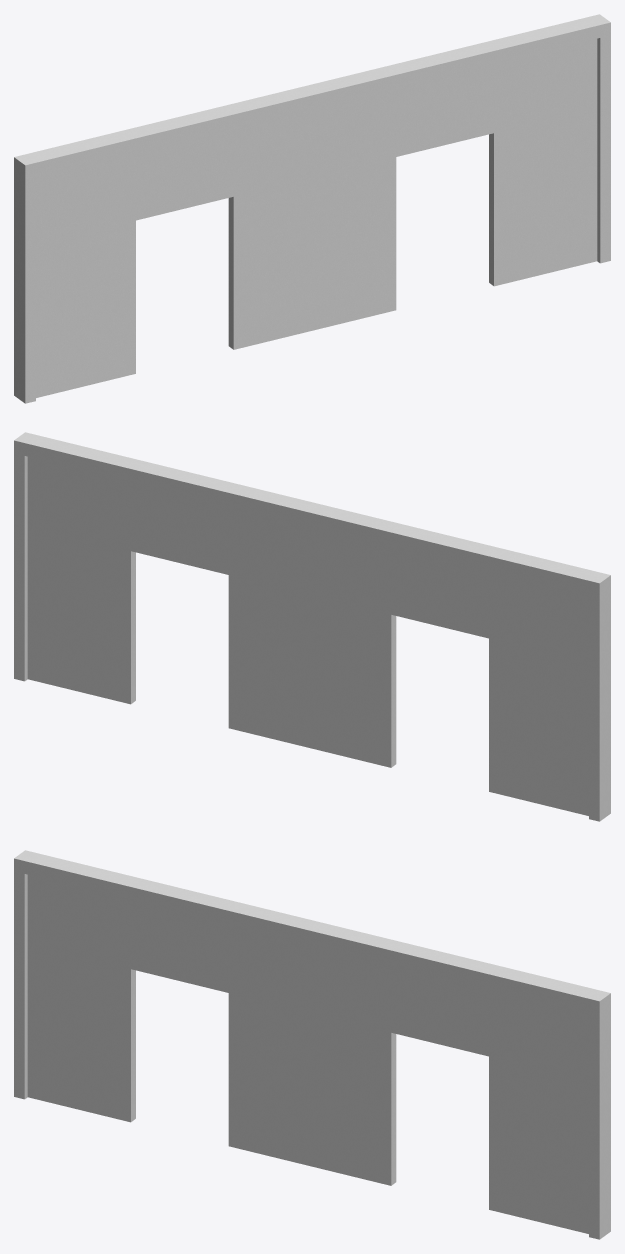
Rendered from PoolFenceConcrete01_3.FBX.
3 renders of one model, top to bottom at view 1: azimuth 30°, elevation 25°; view 2: azimuth 150°, elevation 25°; view 3: azimuth 330°, elevation 25°, orthographic.
Parts seen in each view (by area): view 1: PoolFenceConcrete01_3; view 2: PoolFenceConcrete01_3; view 3: PoolFenceConcrete01_3.
Part boxes in pixels (x1,y1,x2,y2): PoolFenceConcrete01_3: (14,14,610,403); PoolFenceConcrete01_3: (14,432,610,821); PoolFenceConcrete01_3: (14,850,610,1239).
Size of what is drawn, in the model's own units: 9 by 3.5 by 0.3.
